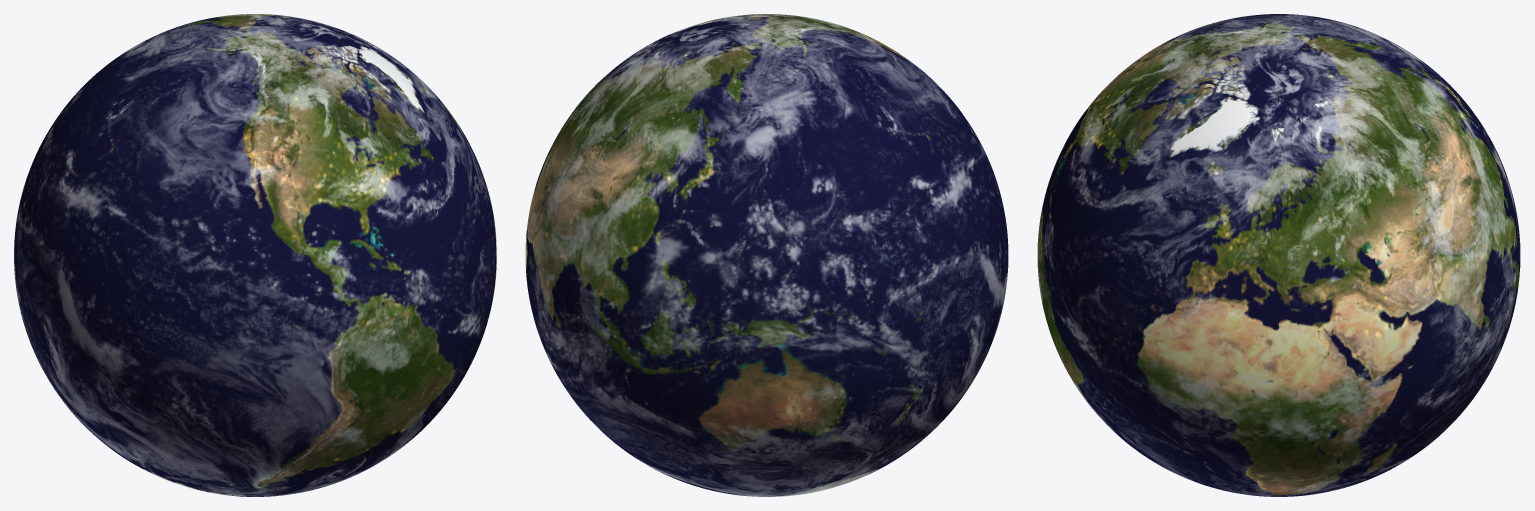
File: gercekci_dunya.glb
The picture shows the model from 3 angles, left to right: view 1: azimuth 30°, elevation 25°; view 2: azimuth 150°, elevation 25°; view 3: azimuth 270°, elevation 25°; orthographic projection.
Parts seen in each view (by area): view 1: Dunya_Yuzeyi; view 2: Dunya_Yuzeyi; view 3: Dunya_Yuzeyi.
Part boxes in pixels (box(x1,y1,x2,y2)): Dunya_Yuzeyi: box(14, 14, 496, 496); Dunya_Yuzeyi: box(525, 14, 1008, 496); Dunya_Yuzeyi: box(1037, 14, 1520, 496).
Size of the model in its own units: 6 by 6 by 6.
Materials: 1 (1 with a texture image).
